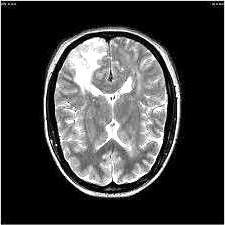Normal_Brain: (6, 7, 212, 224)
